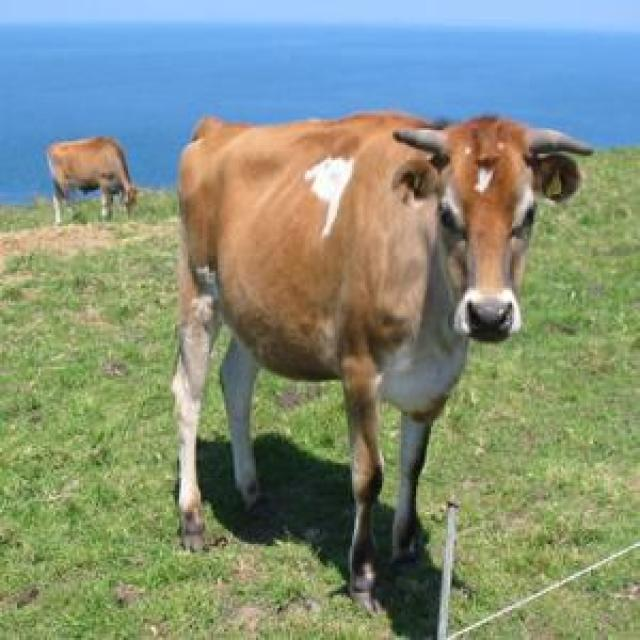not_pig: (169, 106, 593, 616), (45, 134, 136, 224)
